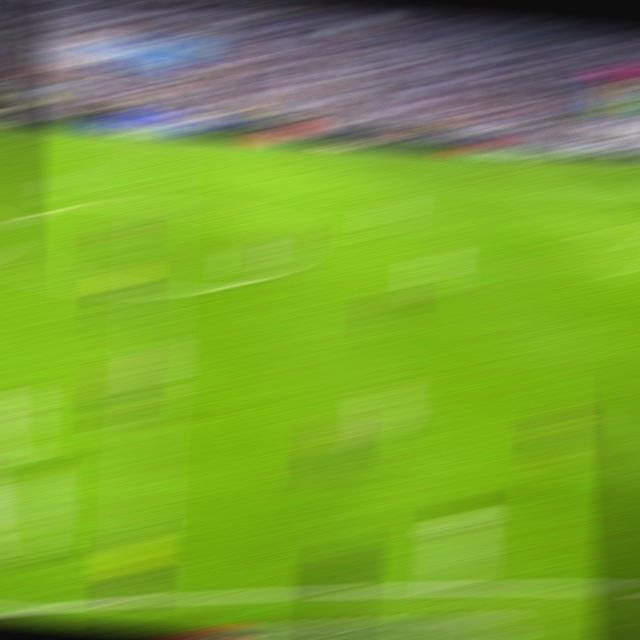corner: (620, 157, 640, 165)
halfcircle_bottom: (135, 279, 170, 301)
halfcircle_top: (140, 195, 172, 211)
midline_top_intersection: (145, 135, 174, 143)
top_arc_area_intersection: (592, 219, 624, 233)
